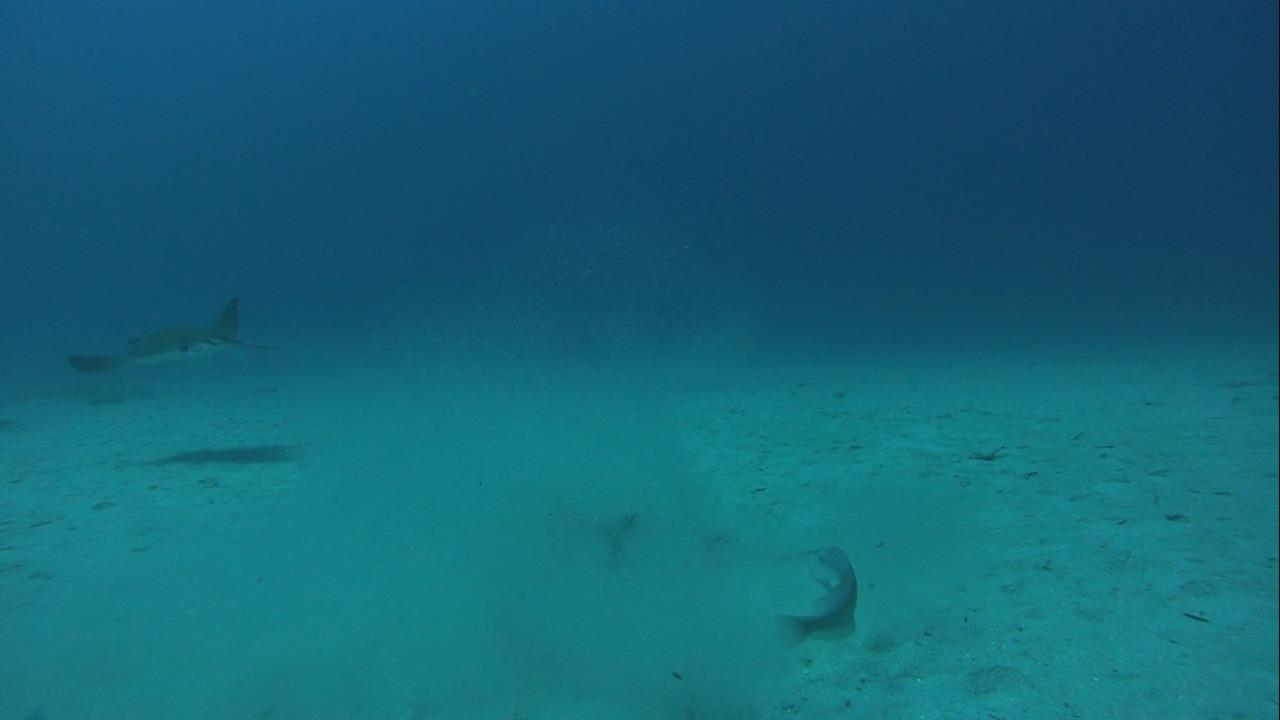myliobatis: (57, 292, 291, 377)
raor: (765, 541, 862, 651)
